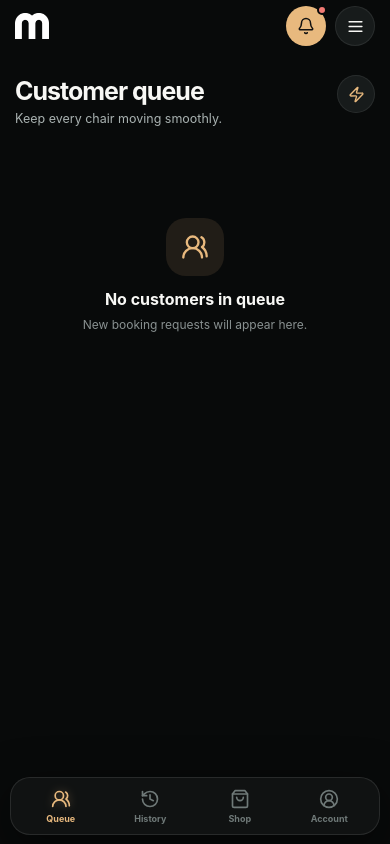
Test: Bottom navigation labels › opens the Naai Shop from the salon tab bar, not the queue
Expected: the element with class "salon-queue-screen" is shown, 15,75 -> 375,418
Click the button "Shop" at (240, 806), box 195,786 -> 284,827
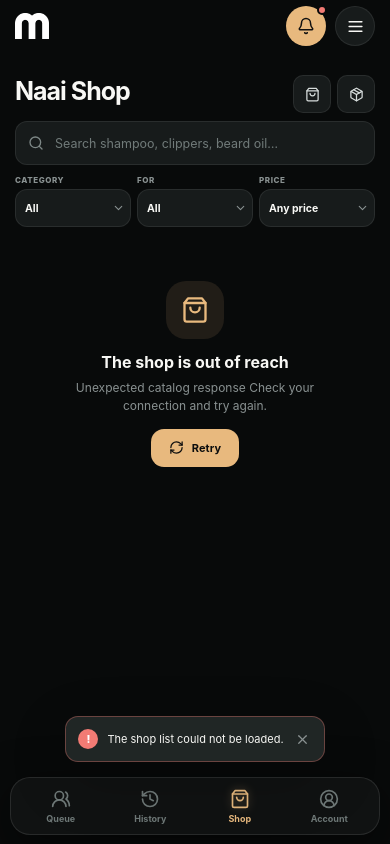
Expected: the element with class "salon-queue-screen" is gone
Expected: the heading with class "workspace-content" no longer shows "No customers in queue"
Expected: the element with class "shop-screen" is shown
